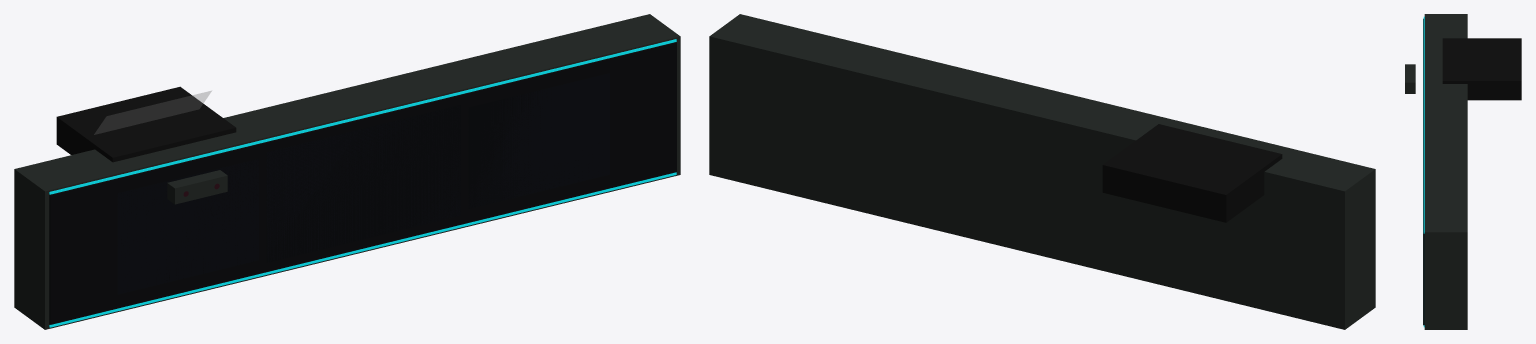
File: cockpit_quantum_hyperblade.glb
The picture shows the model from 3 angles, left to right: view 1: azimuth 30°, elevation 25°; view 2: azimuth 150°, elevation 25°; view 3: azimuth 270°, elevation 25°; orthographic projection. The views are drawn at different scales.
Parts seen in each view (by area): view 1: Curved_Monolithic_Glass_Assembly, AugmentedReality_3D_HUD_System, Driver_Monitoring_Infrared_Camera; view 2: Curved_Monolithic_Glass_Assembly, AugmentedReality_3D_HUD_System; view 3: Curved_Monolithic_Glass_Assembly, AugmentedReality_3D_HUD_System, Driver_Monitoring_Infrared_Camera.
Part boxes in pixels (box(x1,y1,x2,y2)): Curved_Monolithic_Glass_Assembly: box(14, 14, 680, 329); AugmentedReality_3D_HUD_System: box(56, 86, 236, 162); Driver_Monitoring_Infrared_Camera: box(167, 170, 227, 204); Curved_Monolithic_Glass_Assembly: box(709, 14, 1375, 329); AugmentedReality_3D_HUD_System: box(1102, 124, 1282, 222); Curved_Monolithic_Glass_Assembly: box(1423, 14, 1467, 329); AugmentedReality_3D_HUD_System: box(1442, 38, 1521, 100); Driver_Monitoring_Infrared_Camera: box(1405, 64, 1415, 93).
Bounding box in the file's own units: 1.44 × 0.3716 × 0.326.
